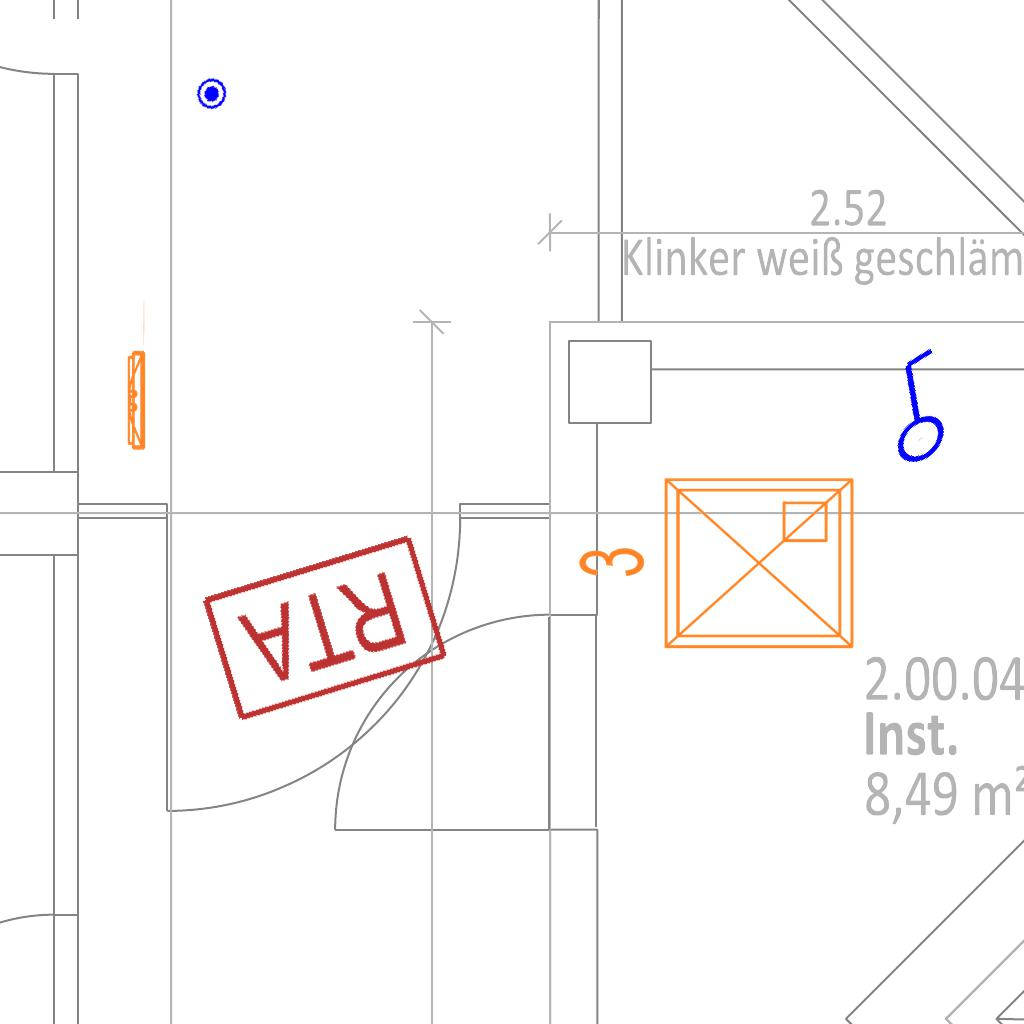Ausschalter: (841, 334, 989, 482)
Einbaudownlights_LED_Konferenzraeume: (568, 463, 868, 671)
Ruf-und_Abstelltaster: (197, 527, 457, 727)
Sicherheitsleuchte_Wandeinbau: (123, 296, 148, 455)
Taster: (190, 73, 231, 114)
